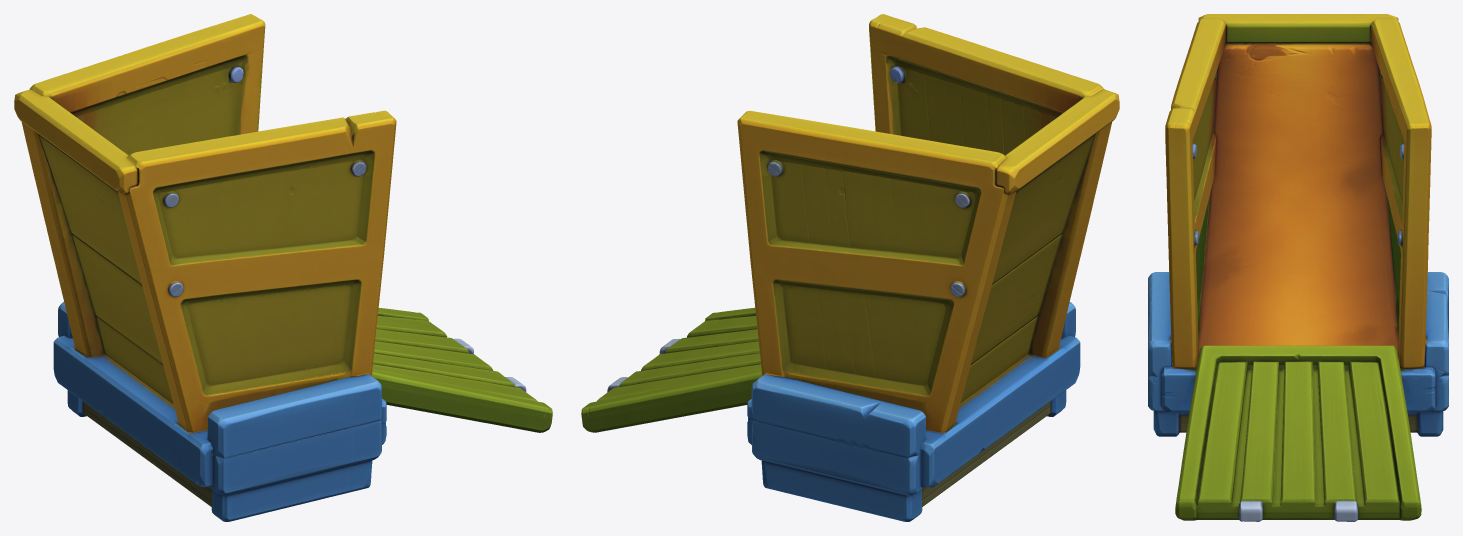
File: ramp.glb
3 views of the same model, side by side, from view 1: azimuth 30°, elevation 25°; view 2: azimuth 150°, elevation 25°; view 3: azimuth 270°, elevation 25° (orthographic). The views are drawn at different scales.
Parts seen in each view (by area): view 1: tripo_node_e78aba4c-2ec5-4943-91d8-db3bc4116004; view 2: tripo_node_e78aba4c-2ec5-4943-91d8-db3bc4116004; view 3: tripo_node_e78aba4c-2ec5-4943-91d8-db3bc4116004.
Part boxes in pixels (<box>): tripo_node_e78aba4c-2ec5-4943-91d8-db3bc4116004: <box>14,14,552,521</box>; tripo_node_e78aba4c-2ec5-4943-91d8-db3bc4116004: <box>581,14,1119,521</box>; tripo_node_e78aba4c-2ec5-4943-91d8-db3bc4116004: <box>1148,14,1448,521</box>.
Size of the model in its own units: 0.9805 by 0.7834 by 0.6539.
1 material, 1 textured.
